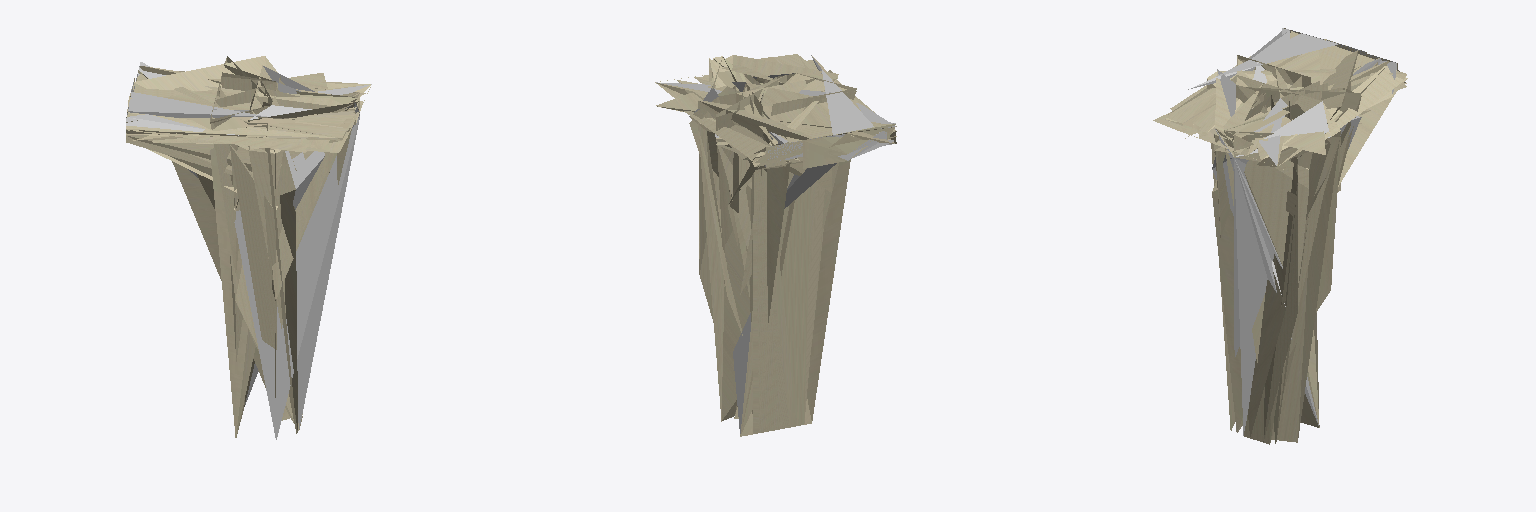
The picture shows the model from 3 angles: view 1: azimuth 30°, elevation 25°; view 2: azimuth 150°, elevation 25°; view 3: azimuth 270°, elevation 25°; orthographic projection.
Parts seen in each view (by area): view 1: Torre_A_Cube.007; view 2: Torre_A_Cube.007; view 3: Torre_A_Cube.007.
Boxes of the visible parts, <box> form: Torre_A_Cube.007: <box>126,56,371,439</box>; Torre_A_Cube.007: <box>655,54,896,436</box>; Torre_A_Cube.007: <box>1153,28,1407,444</box>.
Size of the model in its own units: 31.51 by 39.13 by 26.86.
Materials: 5 (1 with a texture image).